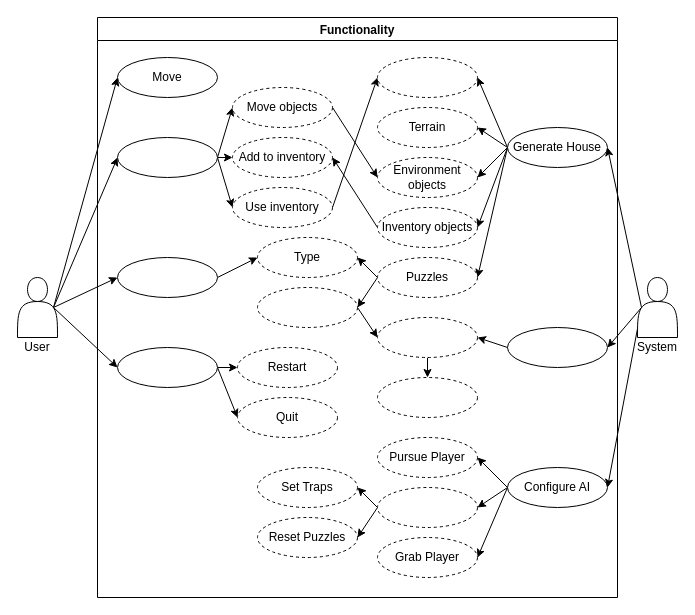
Some shapes in this 695 by 615 pixel diagram are drawn without their labels. Each missing label, with the centre of its shape:
Generate Score: the point at 427,397
Impede Player: the point at 427,507
Interact: the point at 167,157
Interface w/ Puzzles: the point at 167,277
Objectives: the point at 427,77
Open Menu: the point at 167,367
Solution: the point at 307,307
Validate Completion: the point at 427,337
Validate Progression: the point at 557,347
